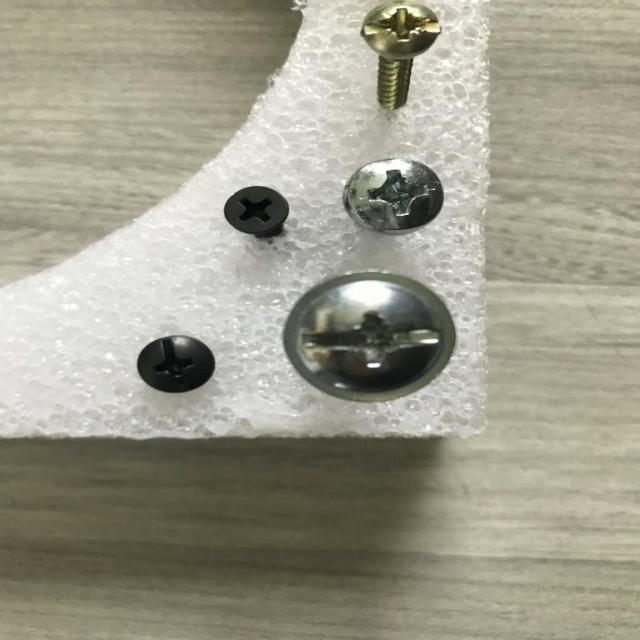PhillipsScrewHead: (282, 271, 457, 401), (342, 158, 444, 234), (360, 1, 440, 58), (138, 336, 215, 393), (224, 185, 290, 235)
